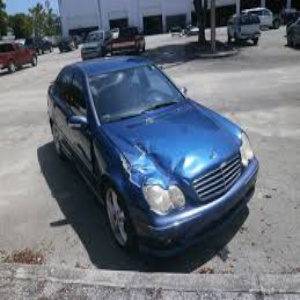bonnet: (114, 129, 201, 181)
